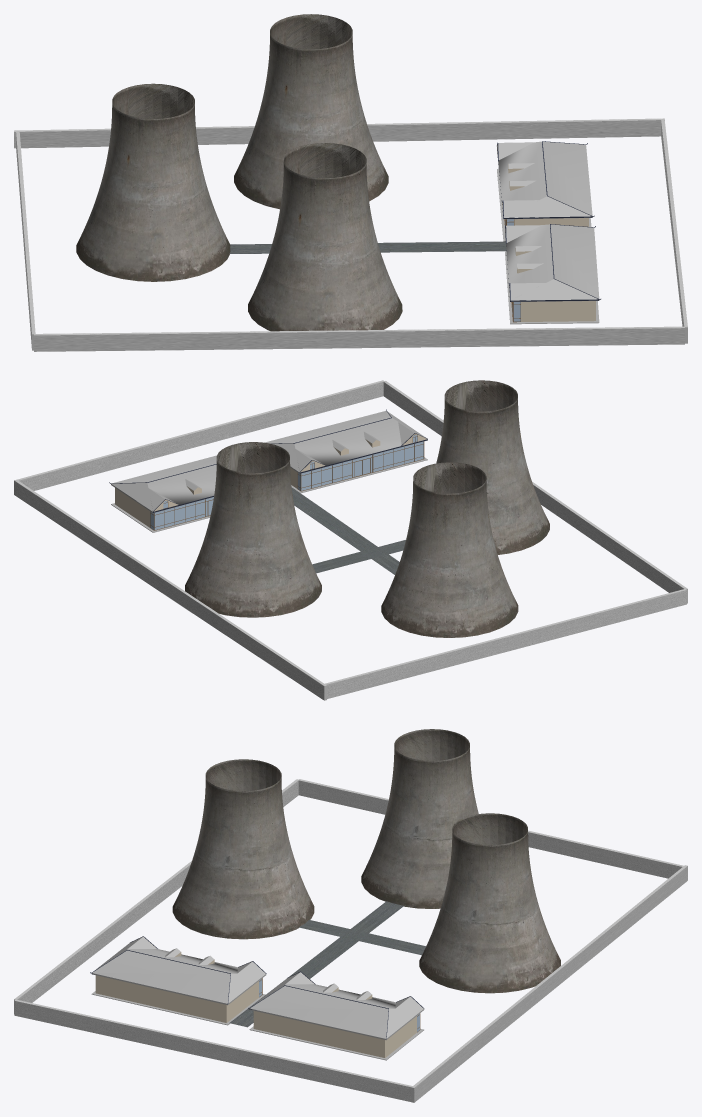
Rendered from gongye1.gltf.
3 views of the same model, one above another, from view 1: azimuth 30°, elevation 25°; view 2: azimuth 150°, elevation 25°; view 3: azimuth 270°, elevation 25° (orthographic). The views are drawn at different scales.
Visible parts, largest first — view 1: Box003, Cylinder001, Cylinder003, Cylinder002, ____002, ____001, Plane054; view 2: Box003, Cylinder001, Cylinder002, Cylinder003, ____002, ____001, Plane054; view 3: Box003, Cylinder003, Cylinder002, Cylinder001, ____001, ____002, Plane054.
Boxes of the visible parts, bbox=[...] form: Box003: bbox=[14, 118, 687, 351]; Cylinder001: bbox=[76, 83, 230, 281]; Cylinder003: bbox=[248, 143, 402, 331]; Cylinder002: bbox=[234, 14, 388, 209]; ____002: bbox=[505, 224, 600, 324]; ____001: bbox=[497, 141, 594, 241]; Plane054: bbox=[229, 241, 506, 253]; Box003: bbox=[14, 380, 687, 700]; Cylinder001: bbox=[381, 462, 518, 637]; Cylinder002: bbox=[185, 442, 321, 617]; Cylinder003: bbox=[436, 380, 549, 554]; ____002: bbox=[265, 409, 427, 493]; ____001: bbox=[109, 455, 216, 532]; Plane054: bbox=[291, 487, 405, 574]; Box003: bbox=[14, 779, 687, 1102]; Cylinder003: bbox=[172, 759, 314, 939]; Cylinder002: bbox=[419, 813, 560, 993]; Cylinder001: bbox=[361, 729, 478, 908]; ____001: bbox=[248, 971, 424, 1060]; ____002: bbox=[90, 936, 266, 1025]; Plane054: bbox=[229, 901, 425, 1027].
Size of the model in its own units: 2220 by 453 by 2046.
23 materials, 5 textured.
